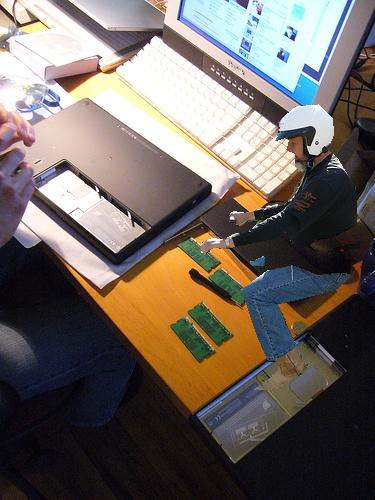tampered: (201, 105, 360, 390)
